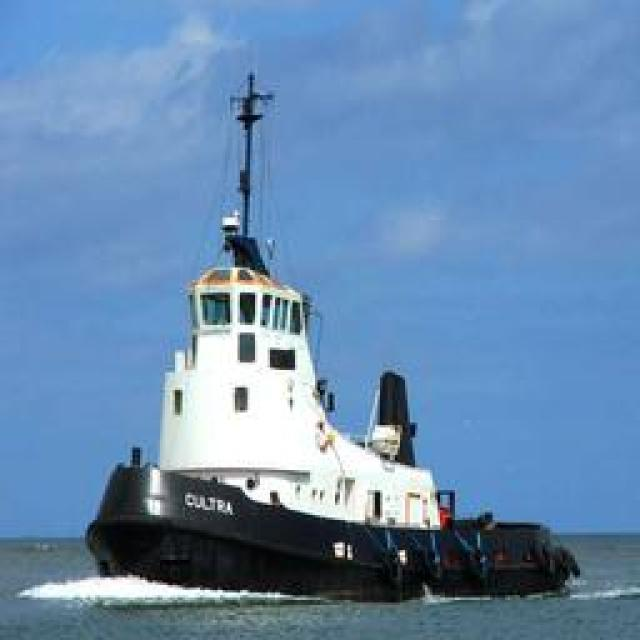CIV_Ship: (109, 60, 502, 598)
